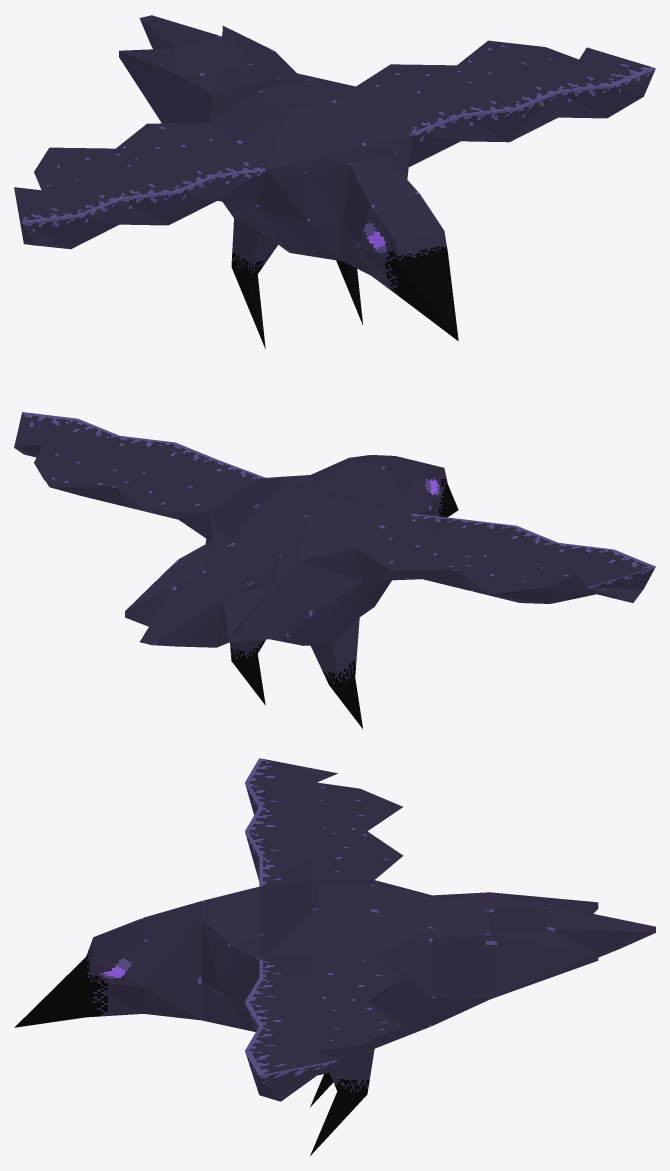
The model's file is CrowRigged.glb.
The picture shows the model from 3 angles, top to bottom: view 1: azimuth 30°, elevation 25°; view 2: azimuth 150°, elevation 25°; view 3: azimuth 270°, elevation 25°; orthographic projection. The views are drawn at different scales.
Bounding box in the file's own units: 13 × 5.25 × 11.12.
1 material, 1 textured.
